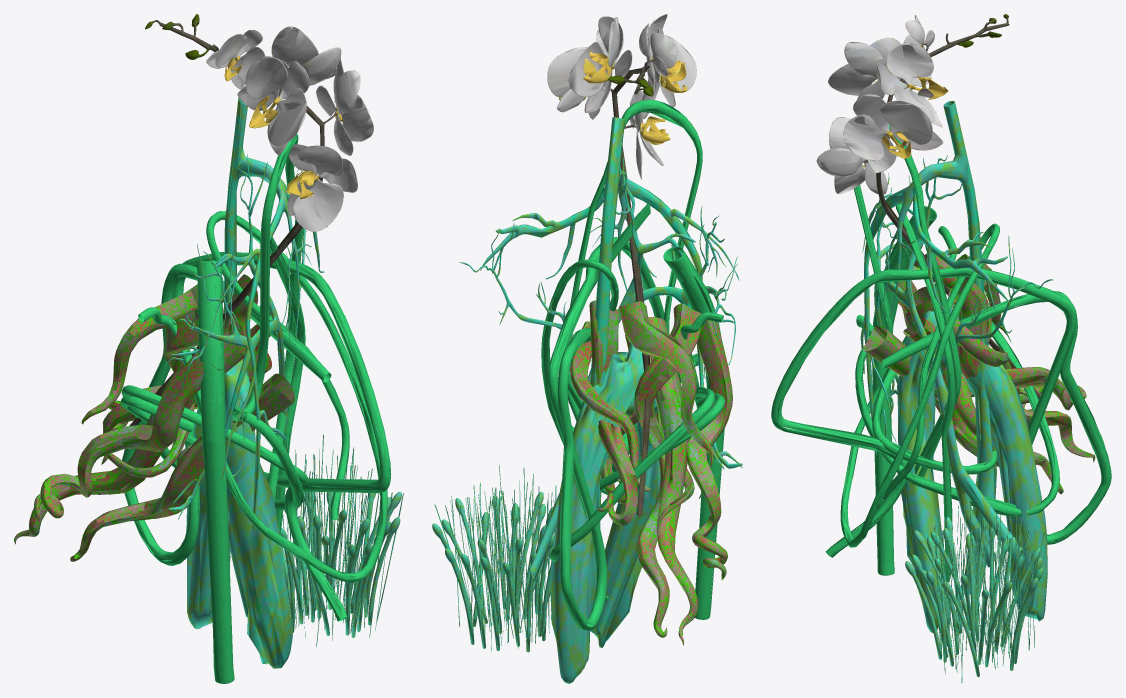
File: worldtreethreevines.glb
3 views of the same model, side by side, from view 1: azimuth 30°, elevation 25°; view 2: azimuth 150°, elevation 25°; view 3: azimuth 270°, elevation 25° (orthographic). The views are drawn at different scales.
Visible parts, largest first — view 1: stamen.001; view 2: stamen.001; view 3: stamen.001.
Boxes of the visible parts, <box> form: stamen.001: <box>14,14,403,683</box>; stamen.001: <box>432,14,742,683</box>; stamen.001: <box>771,14,1111,683</box>.
Bounding box in the file's own units: 0.8283 × 1.58 × 0.8152.
Materials: 5 (5 with a texture image).
